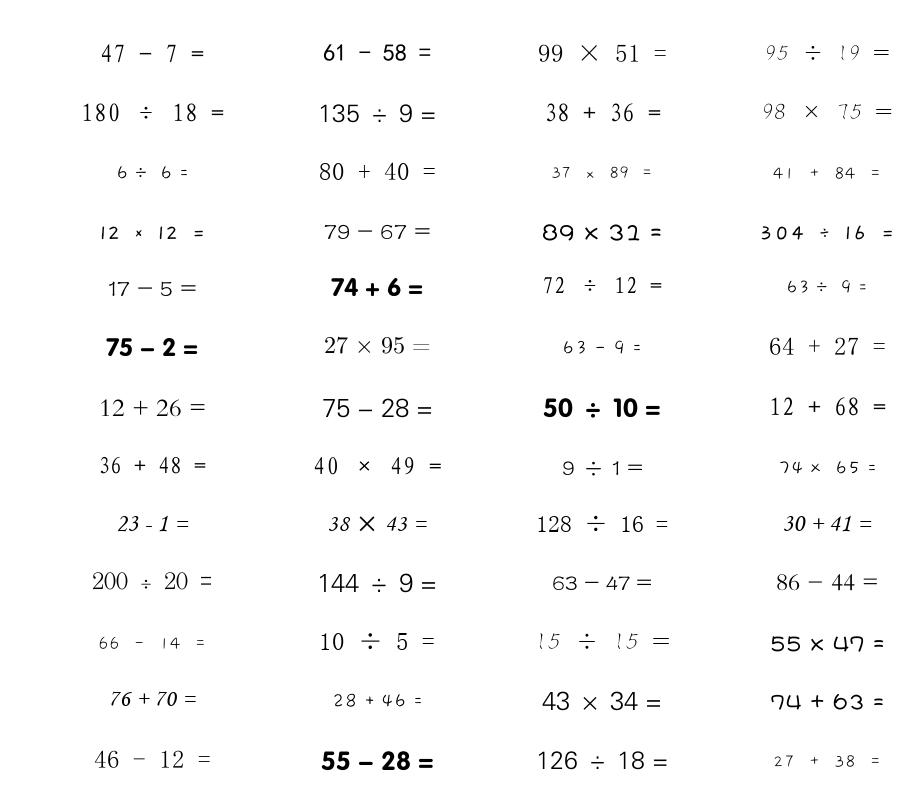MQ: (81, 103, 224, 122), (536, 751, 668, 770), (317, 573, 437, 593), (542, 691, 662, 711), (543, 398, 661, 418), (538, 44, 667, 62), (313, 457, 442, 475), (535, 633, 670, 650), (321, 751, 434, 771), (536, 515, 668, 532), (318, 104, 436, 123), (762, 103, 893, 120), (544, 103, 661, 122), (769, 397, 886, 416), (322, 398, 433, 418), (542, 276, 662, 294), (92, 572, 212, 590), (319, 162, 436, 180), (769, 337, 886, 355), (94, 750, 211, 768), (319, 632, 435, 650), (542, 224, 662, 241), (759, 225, 895, 240), (765, 45, 890, 61), (100, 44, 204, 63), (98, 456, 206, 474), (770, 693, 884, 710), (324, 336, 431, 354), (99, 399, 206, 417), (331, 277, 423, 297), (106, 337, 198, 357), (770, 636, 885, 652), (323, 44, 431, 61), (776, 574, 879, 591), (324, 224, 431, 239), (327, 516, 427, 532), (782, 515, 872, 532), (98, 636, 207, 650), (552, 576, 652, 591), (99, 226, 206, 240), (773, 167, 882, 180), (773, 755, 882, 768), (778, 461, 877, 475), (332, 693, 423, 708), (108, 281, 197, 296), (551, 166, 653, 179), (108, 691, 196, 706), (116, 515, 189, 532), (562, 461, 643, 476), (562, 340, 642, 355), (786, 280, 868, 294), (116, 166, 189, 180)
